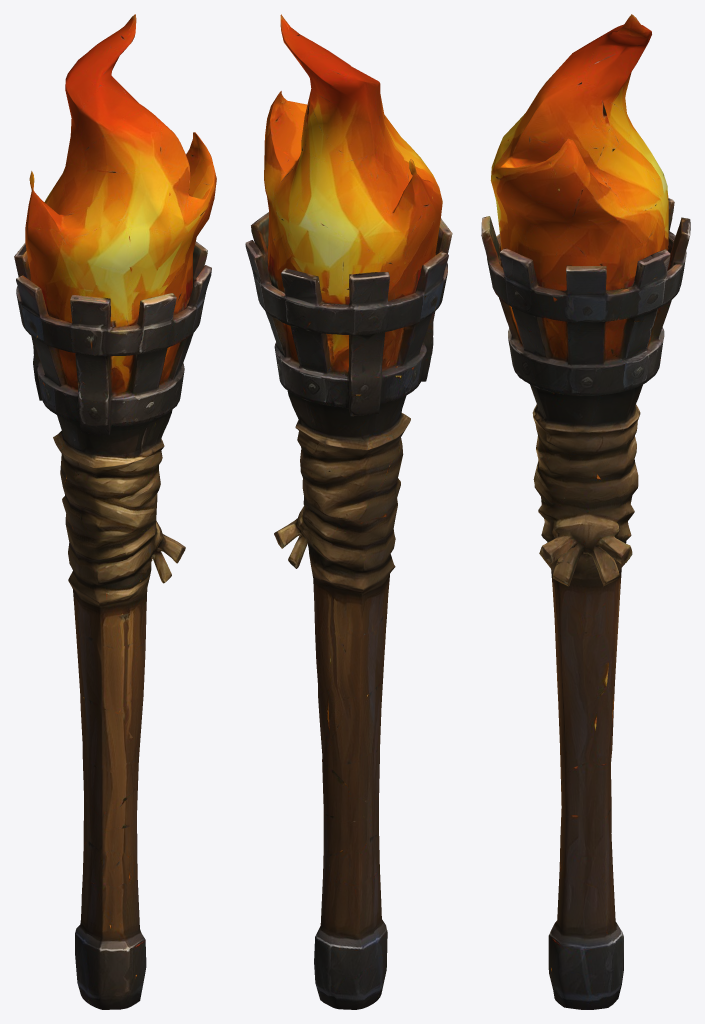
File: torch.glb
3 renders of one model, left to right at view 1: azimuth 30°, elevation 25°; view 2: azimuth 150°, elevation 25°; view 3: azimuth 270°, elevation 25°, orthographic. The views are drawn at different scales.
Size of the model in its own units: 0.3611 by 1.9 by 0.3568.
1 material, 1 textured.
